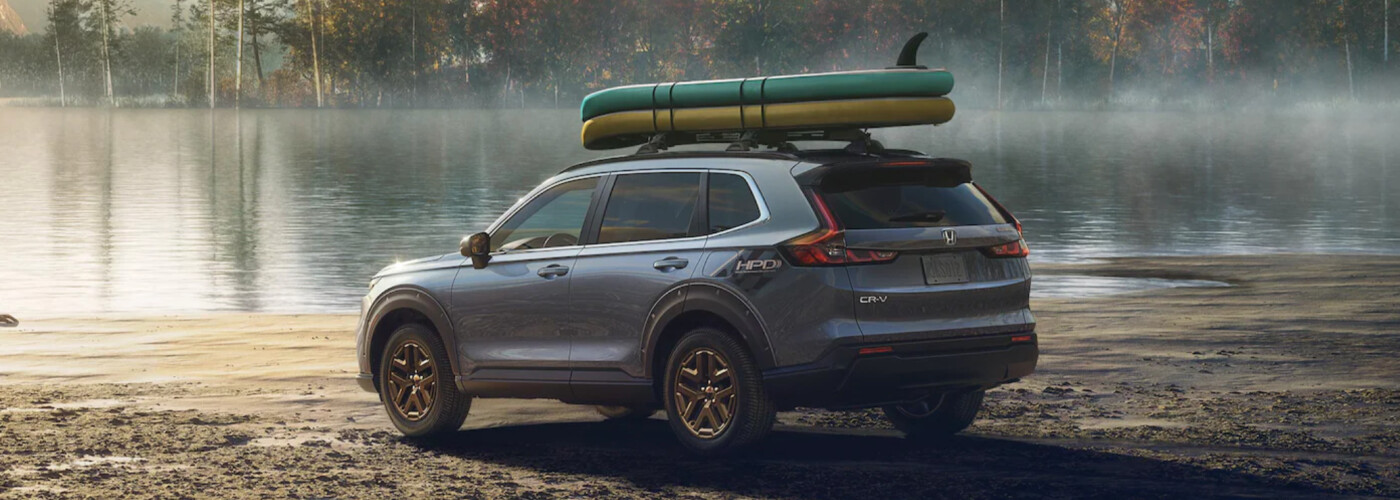car: (350, 129, 1042, 464)
